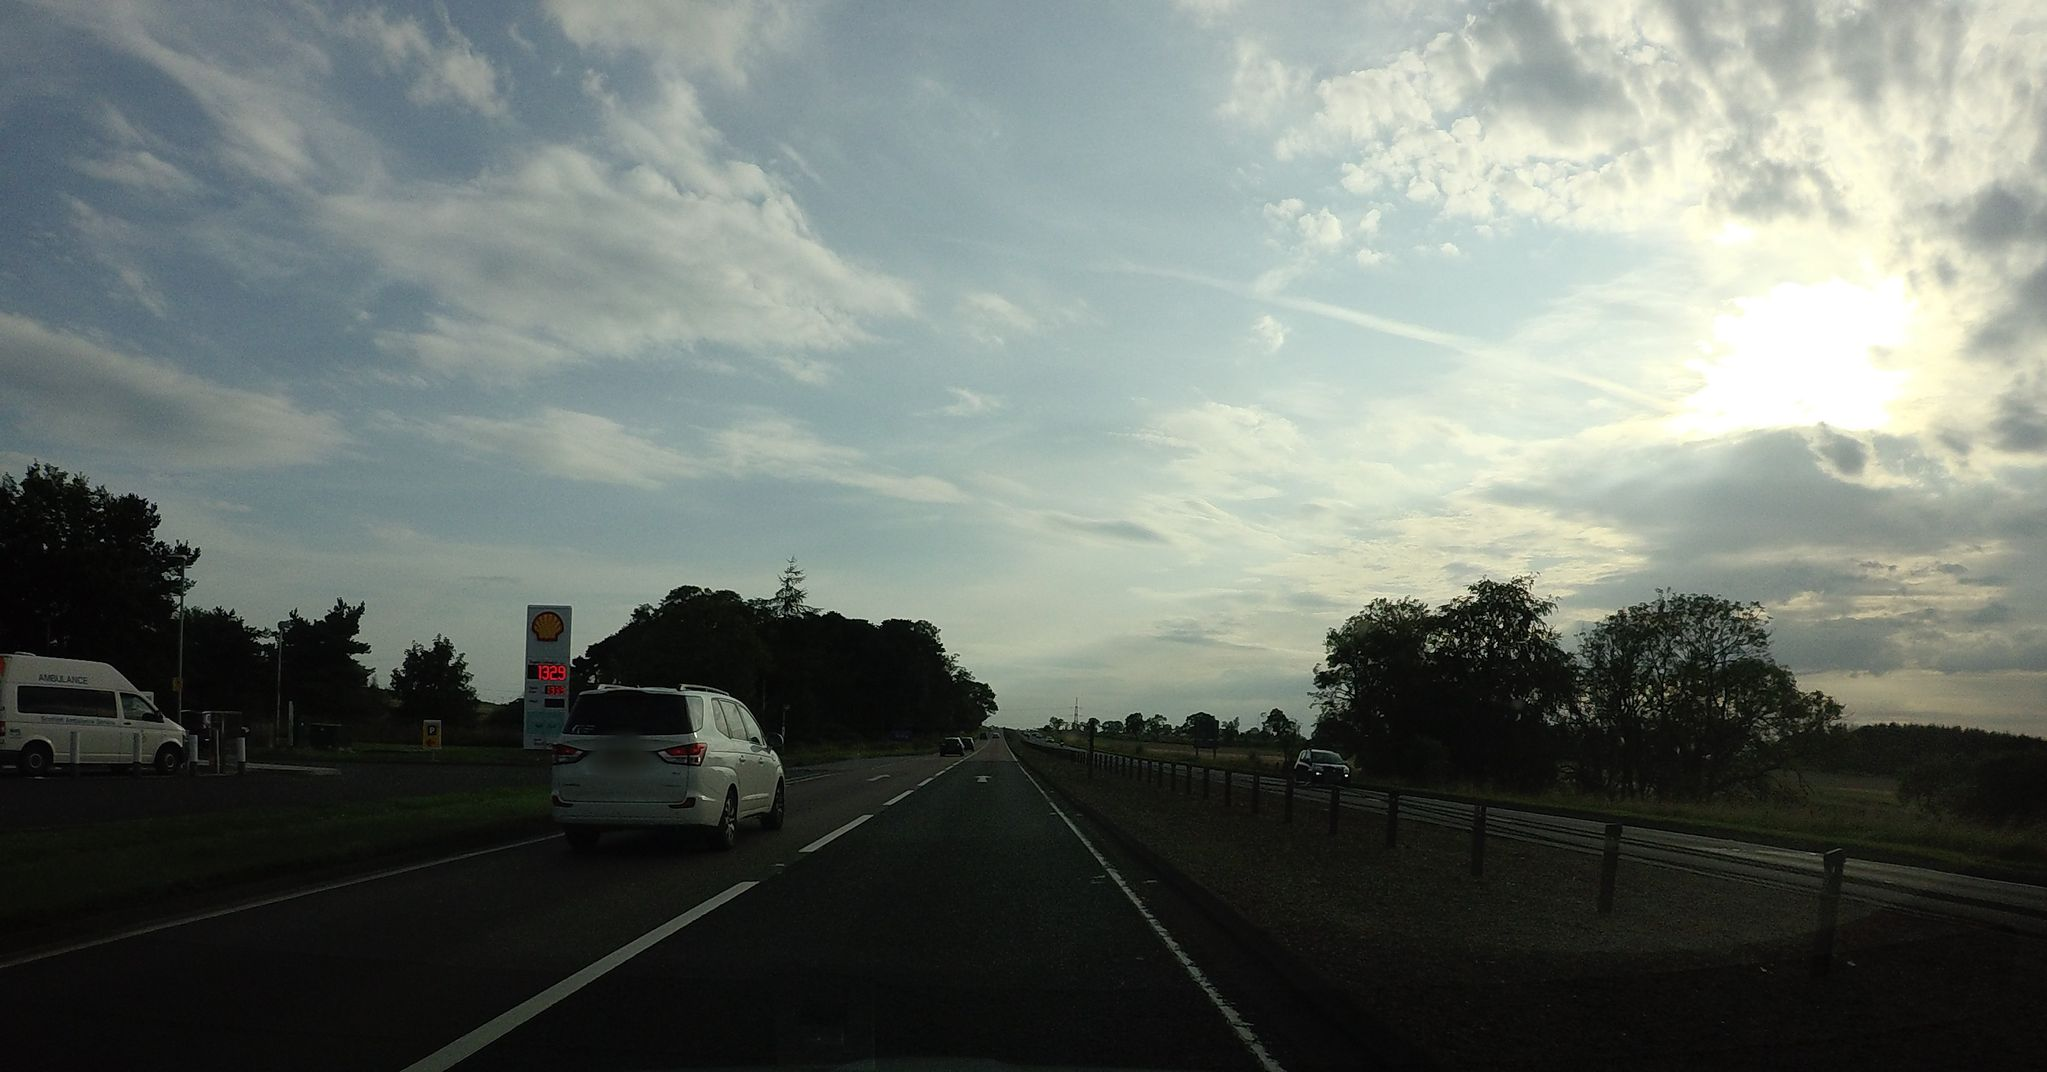car: (550, 679, 787, 849), (0, 651, 187, 773), (1292, 747, 1351, 789), (938, 736, 965, 757)
